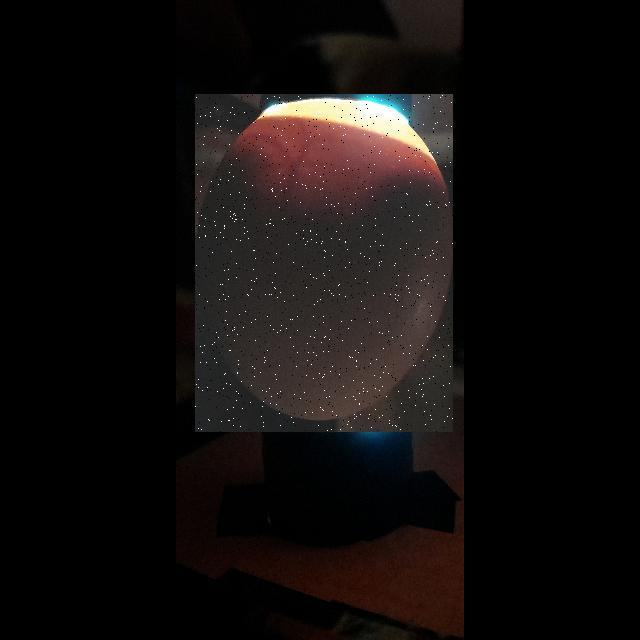Fertile: (195, 94, 453, 432)
